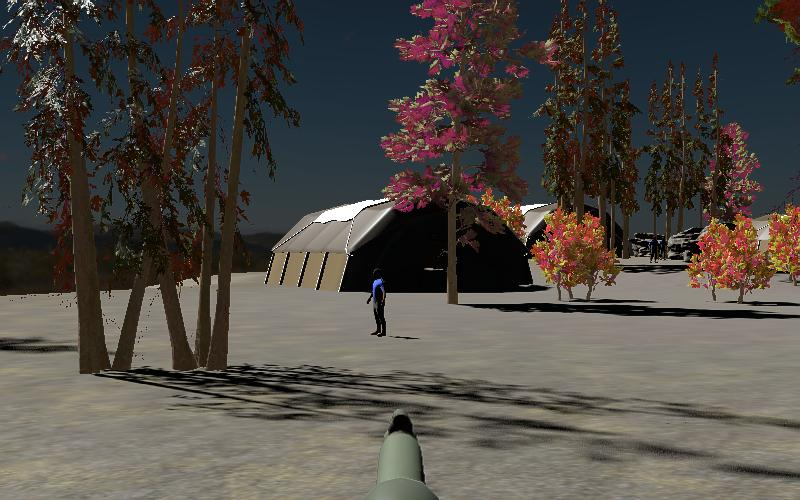Human: (364, 266, 390, 340), (647, 235, 662, 263)
